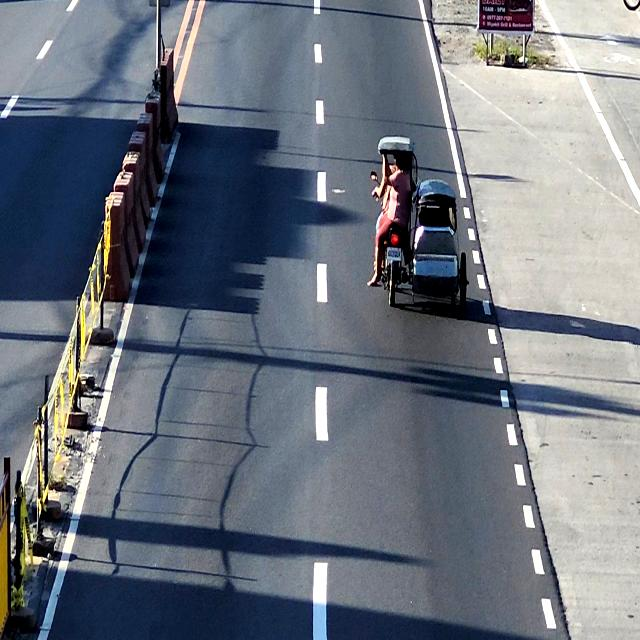License-Plate: (385, 243, 403, 262)
Tricycle: (374, 135, 467, 310)
